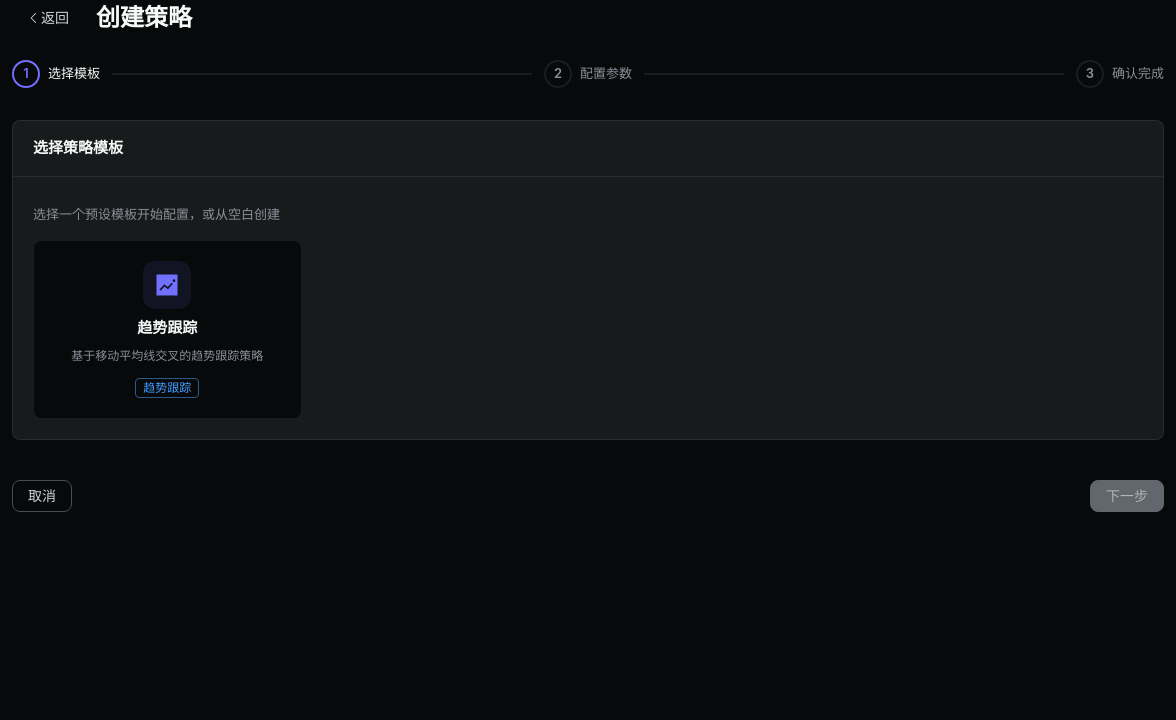
Scenario: StrategyCreateView › escapes XSS payload in parameter description in step 2
The width and height of the screenshot is (1176, 720).
// Go to step 2
Click the element with class "template-card".
click(167, 330)  # box 33,240 -> 302,420
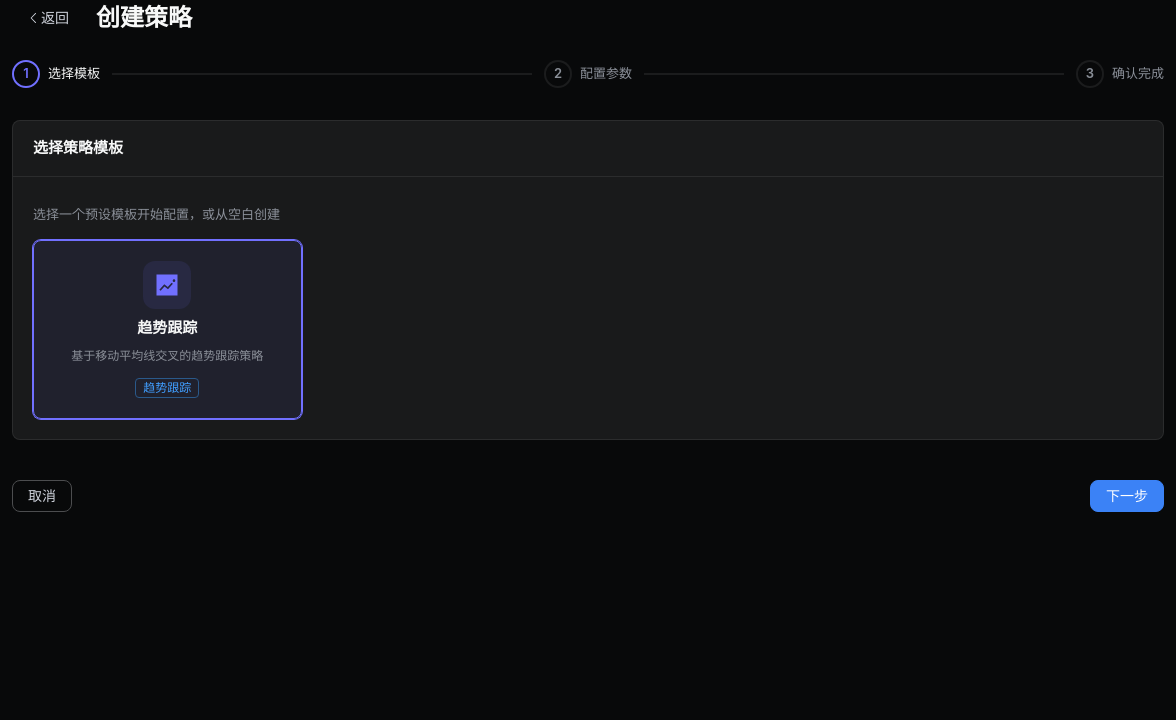
Click the button "下一步".
click(1127, 496)  # box 1090,480 -> 1164,512
(page scrolled)
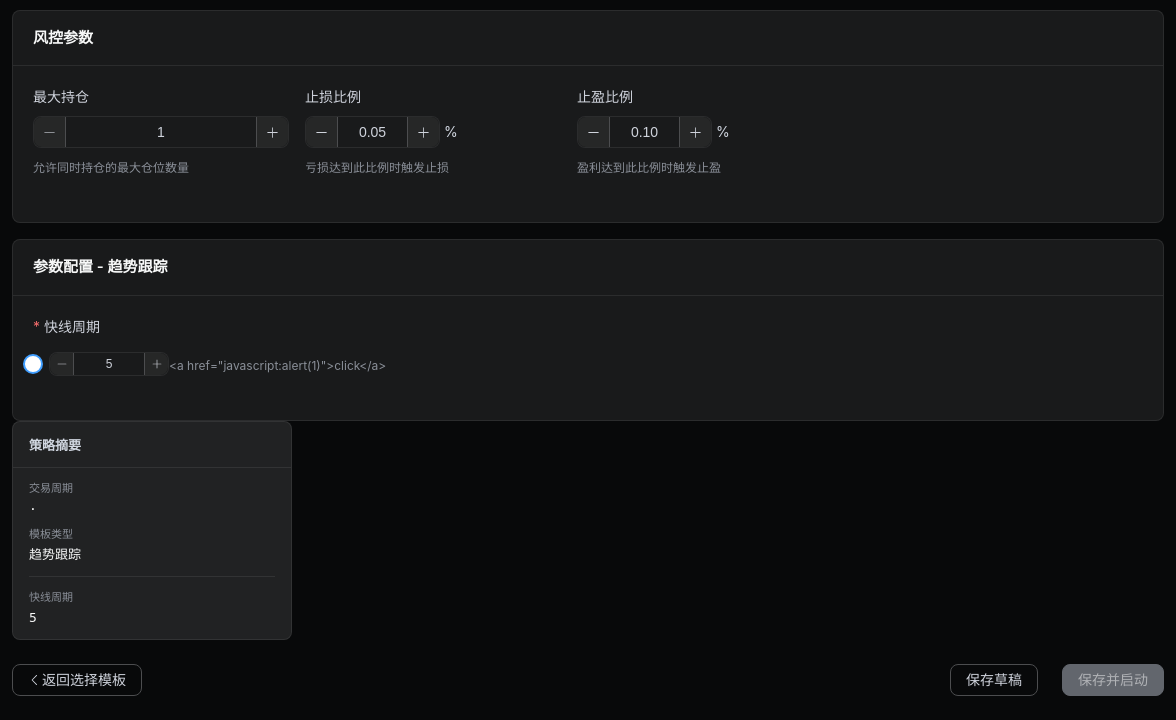
Now the form "快线周期 <a href=\"javascript:alert(1)\">click</a>" is shown, box 23,318 -> 386,376
Now the text "<a href=\"javascript:alert(1)\">click</a>" is shown, box 169,358 -> 386,372
